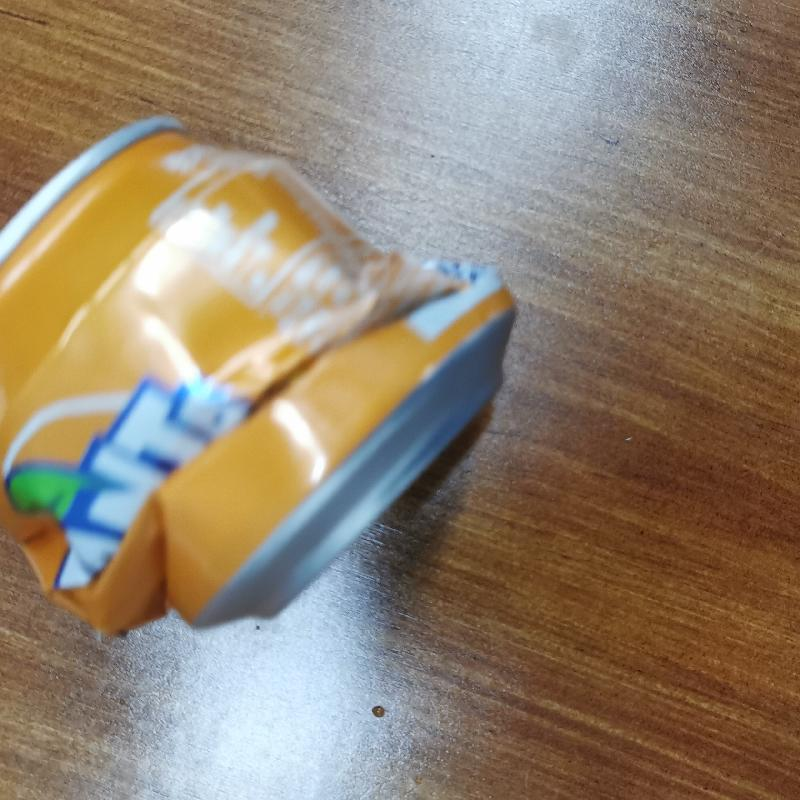cans: (3, 114, 518, 643)
